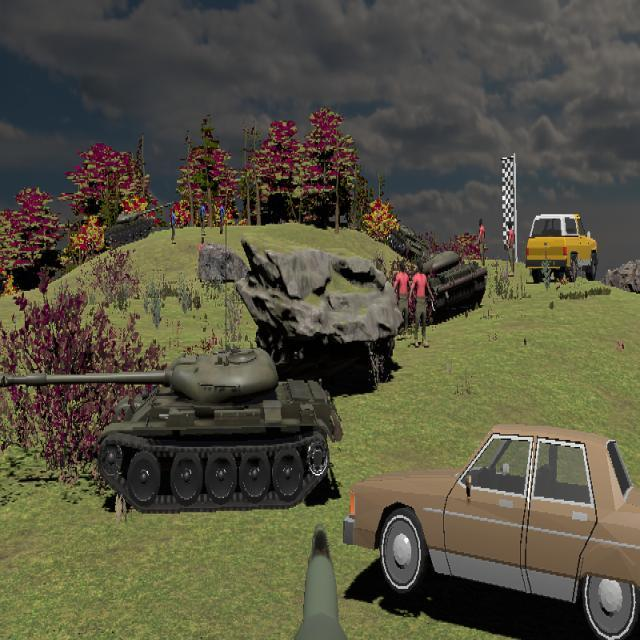Human: (394, 260, 413, 343)
Tank: (3, 343, 346, 514), (408, 250, 487, 320)
car: (343, 422, 640, 638), (525, 213, 598, 283)
